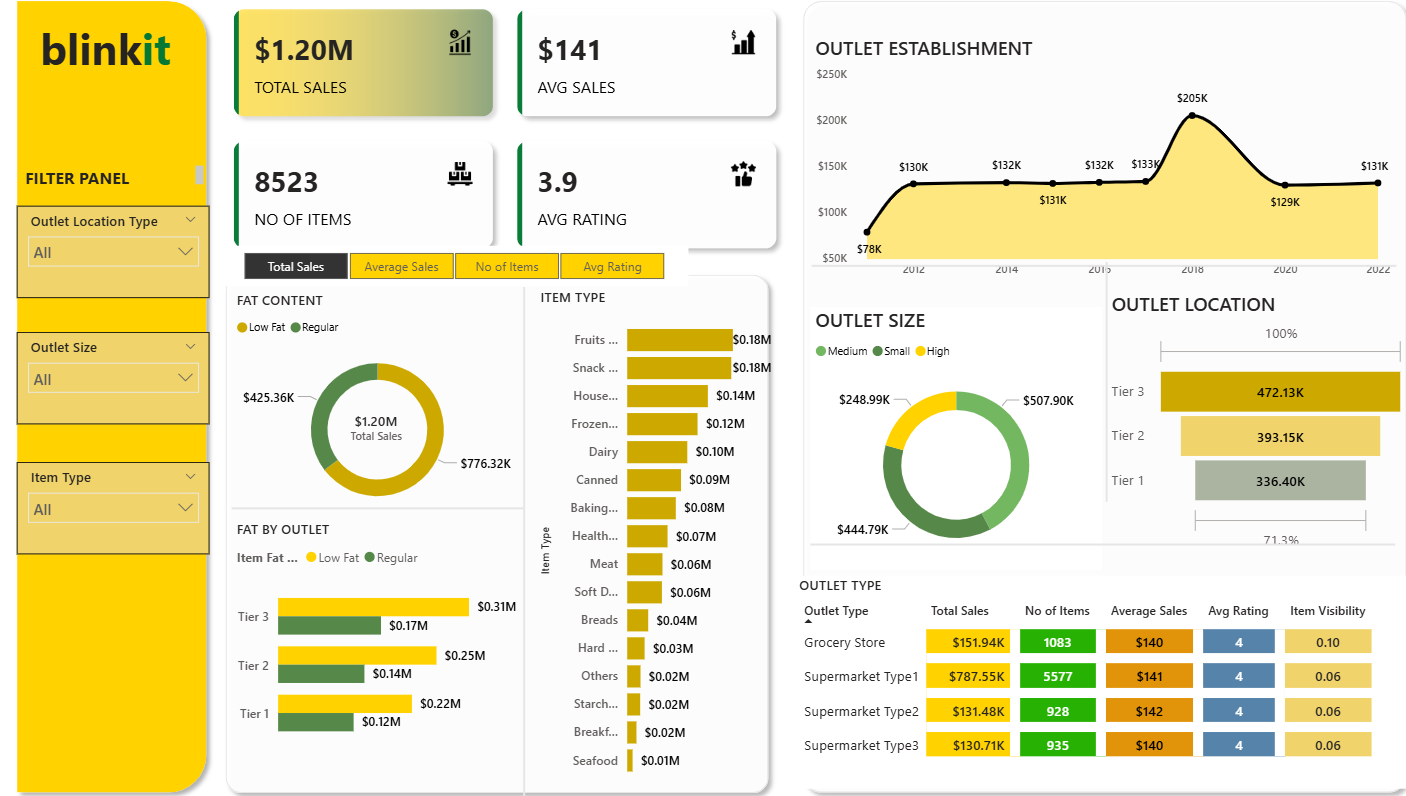

Layout of this report page (visuals, bound fields, positions):
{"tool":"powerbi","page":{"name":"Page 1","canvas":[1400,800],"ordinal":0},"visuals":[{"type":"shape","box":[10,0,205,800],"z":0},{"type":"textbox","box":[22.5,21,168.1,76.5],"z":1000},{"type":"cardVisual","fields":{"Data":["BlinkIT Grocery Data.Total Sales","BlinkIT Grocery Data.Average Sales","BlinkIT Grocery Data.No of Items","BlinkIT Grocery Data.Avg Rating"]},"box":[216.1,0,570.3,270.2],"z":2000},{"type":"shape","box":[216,270,554,530],"z":3000},{"type":"donutChart","title":"FAT CONTENT","fields":{"Y":["BlinkIT Grocery Data.Total Sales"],"Category":["BlinkIT Grocery Data.Item Fat Content"]},"box":[231.1,295.7,288.2,229.6],"z":4000},{"type":"slicer","fields":{"Values":["Metrics.Metrics"]},"box":[217.6,250.6,465,40],"z":5000},{"type":"cardVisual","fields":{"Data":["BlinkIT Grocery Data.Total Sales"]},"box":[316.7,390.2,115.6,79.5],"z":6000},{"type":"clusteredBarChart","title":"FAT BY OUTLET","fields":{"Y":["BlinkIT Grocery Data.Total Sales"],"Category":["BlinkIT Grocery Data.Outlet Location Type"],"Series":["BlinkIT Grocery Data.Item Fat Content"]},"box":[231.1,520.8,288.2,235.6],"z":7000},{"type":"shape","box":[231.1,484.8,288.2,49.5],"z":8000},{"type":"shape","box":[468.3,291.2,103.6,508.8],"z":9000},{"type":"barChart","title":"ITEM TYPE","fields":{"Y":["BlinkIT Grocery Data.Total Sales"],"Category":["BlinkIT Grocery Data.Item Type"]},"box":[531.3,291.2,238.6,495.3],"z":10000},{"type":"shape","box":[786.5,0,613.9,800],"z":11000},{"type":"lineChart","title":"OUTLET ESTABLISHMENT","fields":{"Y":["BlinkIT Grocery Data.Total Sales"],"Category":["BlinkIT Grocery Data.Outlet Establishment Year"]},"box":[803,42,577.8,249.1],"z":12000},{"type":"donutChart","title":"OUTLET SIZE","fields":{"Y":["BlinkIT Grocery Data.Total Sales"],"Category":["BlinkIT Grocery Data.Outlet Size"]},"box":[803,310.7,288.2,259.6],"z":13000},{"type":"shape","box":[1043.1,267.2,103.6,237.1],"z":14000},{"type":"funnel","title":"OUTLET LOCATION","fields":{"Y":["Sum(BlinkIT Grocery Data.Sales)"],"Category":["BlinkIT Grocery Data.Outlet Location Type"]},"box":[1095.6,295.7,300.2,262.7],"z":15000},{"type":"shape","box":[804.5,246.1,577.8,49.5],"z":16000},{"type":"shape","box":[803,520.8,577.8,49.5],"z":17000},{"type":"pivotTable","title":"OUTLET TYPE","fields":{"Rows":["BlinkIT Grocery Data.Outlet Type"],"Values":["BlinkIT Grocery Data.Total Sales","BlinkIT Grocery Data.No of Items","BlinkIT Grocery Data.Average Sales","BlinkIT Grocery Data.Avg Rating","Avg(BlinkIT Grocery Data.Item Visibility)"]},"box":[786.5,576.3,613.9,210.1],"z":18000},{"type":"slicer","fields":{"Values":["BlinkIT Grocery Data.Outlet Location Type"]},"box":[18,211.6,190.6,91.6],"z":19000},{"type":"slicer","fields":{"Values":["BlinkIT Grocery Data.Outlet Size"]},"box":[18,336.2,190.6,91.6],"z":20000},{"type":"slicer","fields":{"Values":["BlinkIT Grocery Data.Item Type"]},"box":[18,463.8,190.6,91.6],"z":21000},{"type":"textbox","box":[22.5,166.6,186.1,30],"z":21001}]}

Visuals, with their boxes in screenshot pixels (x1, y1, x2, y2), scaled from the page's 1400x800 canvas onto the 1406x796 screenshot:
shape: pyautogui.locateOnScreen(10, 0, 216, 795)
textbox: pyautogui.locateOnScreen(23, 21, 191, 97)
cardVisual - BlinkIT Grocery Data.Total Sales x BlinkIT Grocery Data.Average Sales: pyautogui.locateOnScreen(217, 0, 790, 269)
shape: pyautogui.locateOnScreen(217, 269, 773, 795)
"FAT CONTENT" donutChart: pyautogui.locateOnScreen(232, 294, 522, 523)
slicer - Metrics.Metrics: pyautogui.locateOnScreen(219, 249, 686, 289)
cardVisual - BlinkIT Grocery Data.Total Sales: pyautogui.locateOnScreen(318, 388, 434, 467)
"FAT BY OUTLET" clusteredBarChart: pyautogui.locateOnScreen(232, 518, 522, 753)
shape: pyautogui.locateOnScreen(232, 482, 522, 532)
shape: pyautogui.locateOnScreen(470, 290, 574, 795)
"ITEM TYPE" barChart: pyautogui.locateOnScreen(534, 290, 773, 783)
shape: pyautogui.locateOnScreen(790, 0, 1405, 795)
"OUTLET ESTABLISHMENT" lineChart: pyautogui.locateOnScreen(806, 42, 1387, 290)
"OUTLET SIZE" donutChart: pyautogui.locateOnScreen(806, 309, 1096, 567)
shape: pyautogui.locateOnScreen(1048, 266, 1152, 502)
"OUTLET LOCATION" funnel: pyautogui.locateOnScreen(1100, 294, 1402, 556)
shape: pyautogui.locateOnScreen(808, 245, 1388, 294)
shape: pyautogui.locateOnScreen(806, 518, 1387, 567)
"OUTLET TYPE" pivotTable: pyautogui.locateOnScreen(790, 573, 1405, 782)
slicer - BlinkIT Grocery Data.Outlet Location Type: pyautogui.locateOnScreen(18, 211, 209, 302)
slicer - BlinkIT Grocery Data.Outlet Size: pyautogui.locateOnScreen(18, 335, 209, 426)
slicer - BlinkIT Grocery Data.Item Type: pyautogui.locateOnScreen(18, 461, 209, 553)
textbox: pyautogui.locateOnScreen(23, 166, 209, 196)
